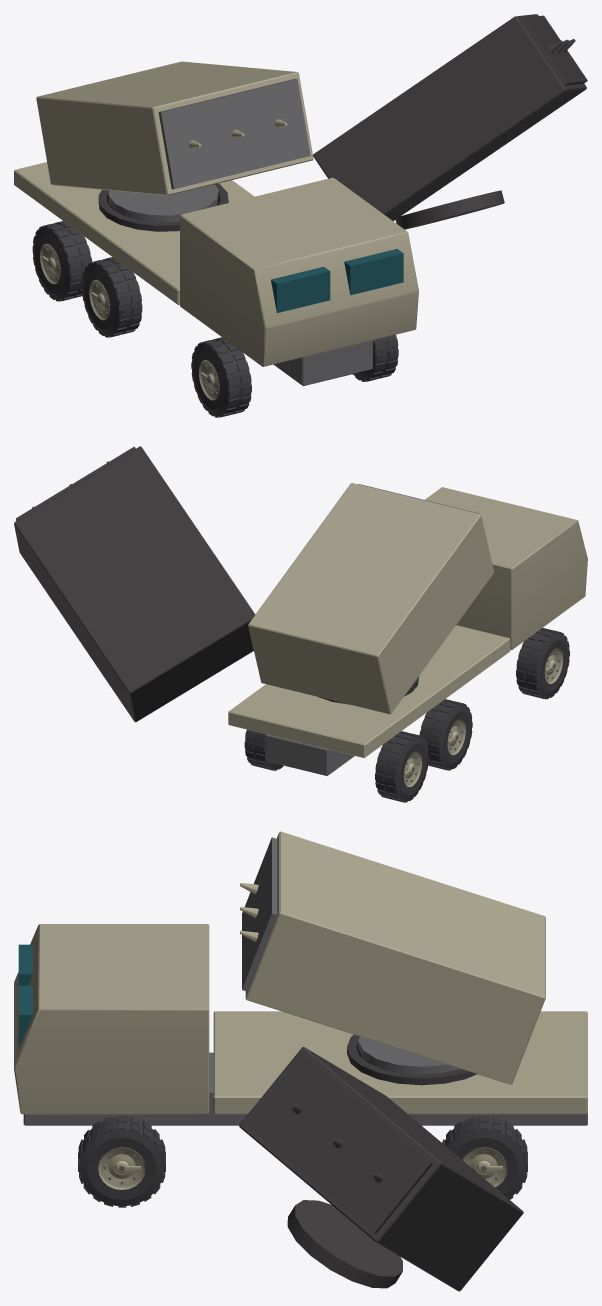
The model's file is shahedLauncher__shahed_launcher.glb.
3 views of the same model, one above another, from view 1: azimuth 30°, elevation 25°; view 2: azimuth 150°, elevation 25°; view 3: azimuth 270°, elevation 25° (orthographic). The views are drawn at different scales.
Parts seen in each view (by area): view 1: Hull_Mesh, Gun_Mesh, Wreck, Wheel_L2_Mesh, Wheel_L1_Mesh, Wheel_L0_Mesh, Turret_Mesh, Wheel_R2_Mesh; view 2: Wreck, Gun_Mesh, Hull_Mesh, Wheel_L0_Mesh, Wheel_L2_Mesh, Wheel_L1_Mesh, Wheel_R0_Mesh; view 3: Hull_Mesh, Gun_Mesh, Wreck, Wheel_R2_Mesh, Wheel_R0_Mesh, Turret_Mesh.
Part boxes in pixels (x1,y1,x2,y2): Hull_Mesh: (14, 162, 418, 386); Gun_Mesh: (36, 61, 313, 195); Wreck: (58, 14, 587, 381); Wheel_L2_Mesh: (191, 337, 251, 417); Wheel_L1_Mesh: (81, 257, 142, 337); Wheel_L0_Mesh: (32, 221, 92, 301); Turret_Mesh: (108, 184, 218, 222); Wheel_R2_Mesh: (352, 334, 398, 381); Wreck: (14, 446, 550, 799); Gun_Mesh: (248, 483, 494, 714); Hull_Mesh: (228, 487, 587, 775); Wheel_L0_Mesh: (375, 731, 428, 802); Wheel_L2_Mesh: (516, 628, 569, 699); Wheel_L1_Mesh: (419, 699, 472, 770); Wheel_R0_Mesh: (244, 729, 283, 770); Hull_Mesh: (14, 924, 587, 1125); Gun_Mesh: (240, 831, 545, 1084); Wreck: (239, 1034, 523, 1291); Wheel_R2_Mesh: (78, 1115, 165, 1207); Wheel_R0_Mesh: (442, 1115, 527, 1199); Turret_Mesh: (358, 1036, 460, 1074).
Size of what is drawn, in the model's own units: 7.75 by 3.83 by 6.9.
